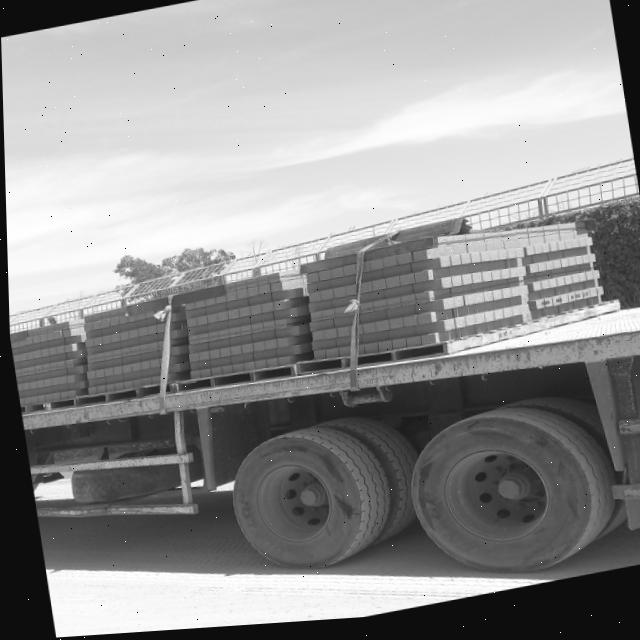bricks: (360, 221, 597, 353), (168, 253, 355, 380), (10, 297, 167, 404)
